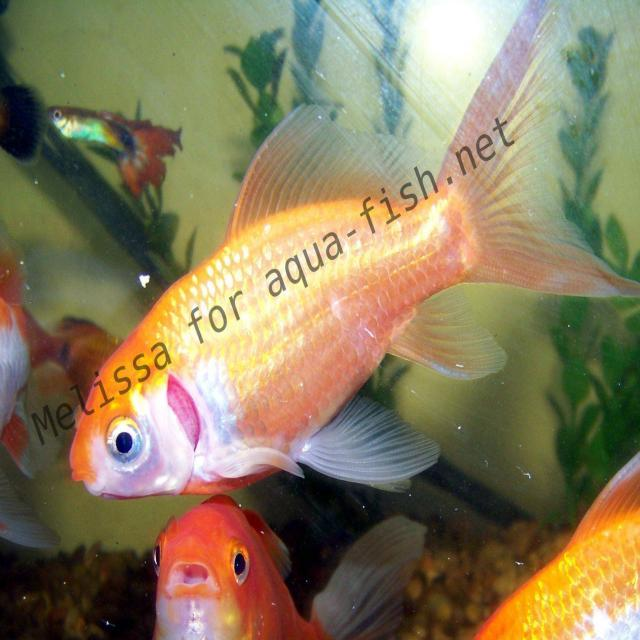Gill Disease: (64, 320, 286, 510)
